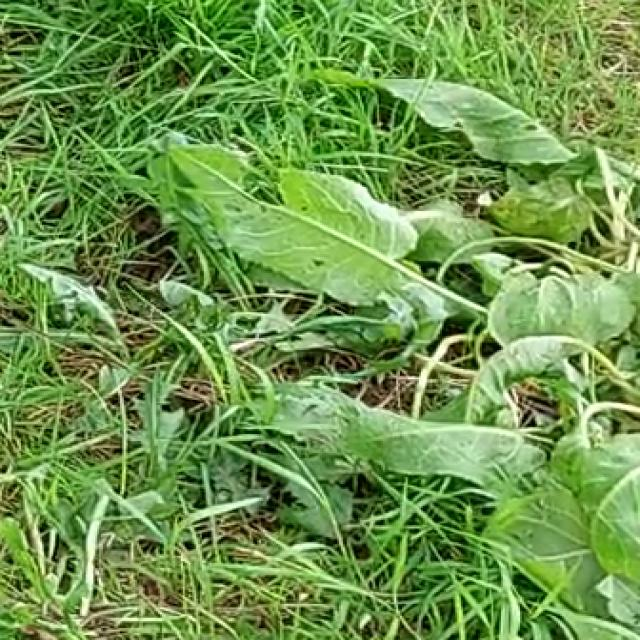organic waste: (66, 31, 640, 592)
